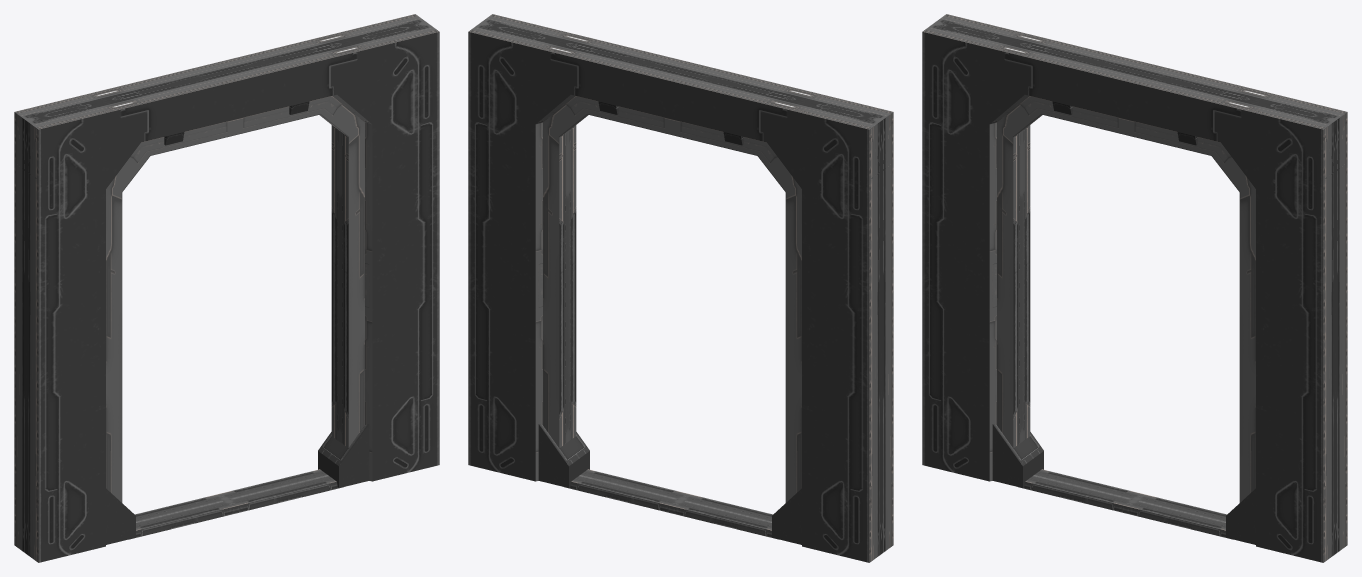
File: Door_Frame_SquareTall.gltf
3 views of the same model, side by side, from view 1: azimuth 30°, elevation 25°; view 2: azimuth 150°, elevation 25°; view 3: azimuth 330°, elevation 25° (orthographic).
Parts seen in each view (by area): view 1: Door_Frame_SquareTall; view 2: Door_Frame_SquareTall; view 3: Door_Frame_SquareTall.
Part boxes in pixels (x1,y1,x2,y2): Door_Frame_SquareTall: (14, 14, 439, 562); Door_Frame_SquareTall: (468, 14, 893, 562); Door_Frame_SquareTall: (922, 14, 1347, 562).
Bounding box in the file's own units: 4.84 × 5.01 × 0.5068.
1 material, 1 textured.
